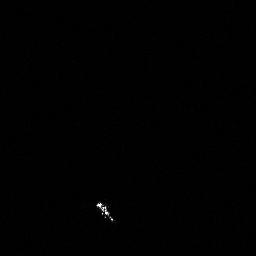ship: (96, 202, 114, 222)
